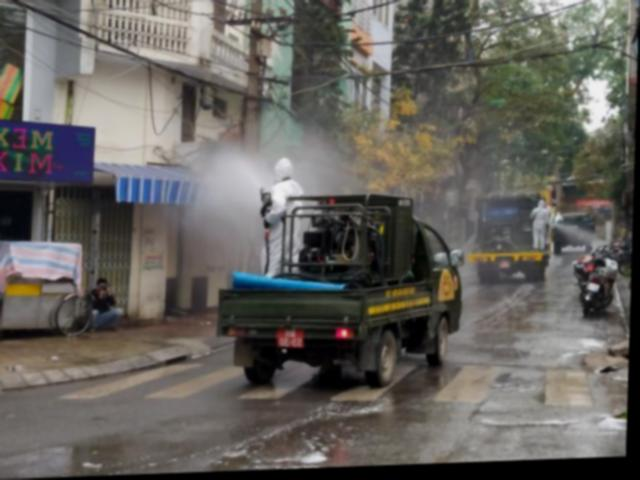License_Plate: (275, 325, 307, 350), (498, 259, 511, 270)
